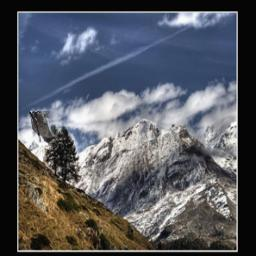Cuckoo: (29, 111, 57, 143)
